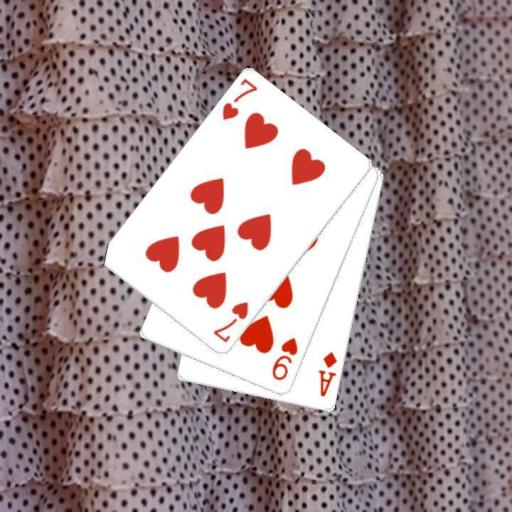card-corner: (218, 76, 260, 122), (210, 299, 250, 345), (269, 334, 299, 383), (316, 349, 338, 398)
